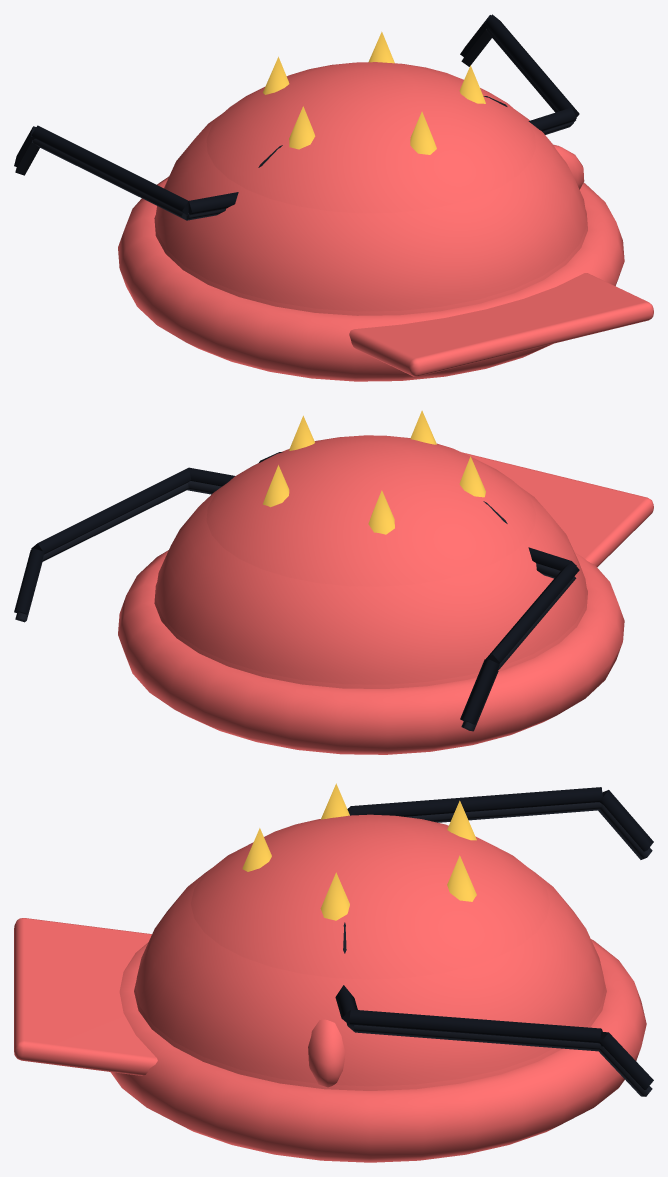
Rendered from wear.glb.
3 views of the same model, one above another, from view 1: azimuth 30°, elevation 25°; view 2: azimuth 150°, elevation 25°; view 3: azimuth 270°, elevation 25° (orthographic). The views are drawn at different scales.
Visible parts, largest first — view 1: beanie_dome, cap_brim, shades_bridge, crown_band, glasses_bridge; view 2: beanie_dome, cap_brim, shades_bridge, crown_band, glasses_bridge; view 3: beanie_dome, cap_brim, shades_bridge, glasses_bridge, crown_band, bow_knot.
Boxes of the visible parts, left/top/right/bottom form: beanie_dome: left=118, top=62, right=624, bottom=381; cap_brim: left=156, top=110, right=653, bottom=376; shades_bridge: left=14, top=14, right=579, bottom=215; crown_band: left=263, top=31, right=485, bottom=154; glasses_bridge: left=15, top=28, right=575, bottom=220; beanie_dome: left=118, top=435, right=624, bottom=754; cap_brim: left=156, top=452, right=653, bottom=684; shades_bridge: left=14, top=467, right=579, bottom=724; crown_band: left=263, top=410, right=485, bottom=534; glasses_bridge: left=15, top=452, right=576, bottom=731; beanie_dome: left=110, top=814, right=646, bottom=1162; cap_brim: left=14, top=868, right=605, bottom=1086; shades_bridge: left=335, top=787, right=653, bottom=1089; glasses_bridge: left=343, top=802, right=652, bottom=1096; crown_band: left=242, top=783, right=476, bottom=920; bow_knot: left=308, top=1019, right=345, bottom=1087.
Size of the model in its own units: 0.6937 by 0.2978 by 0.7527.
